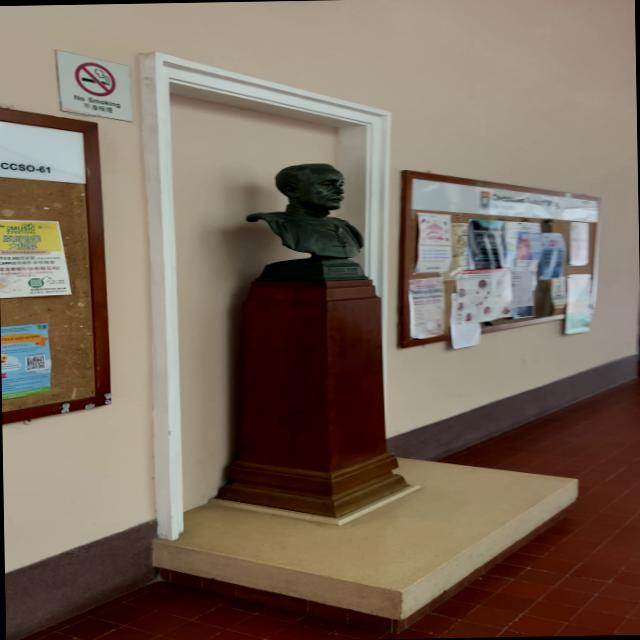statues: (240, 156, 382, 290)
